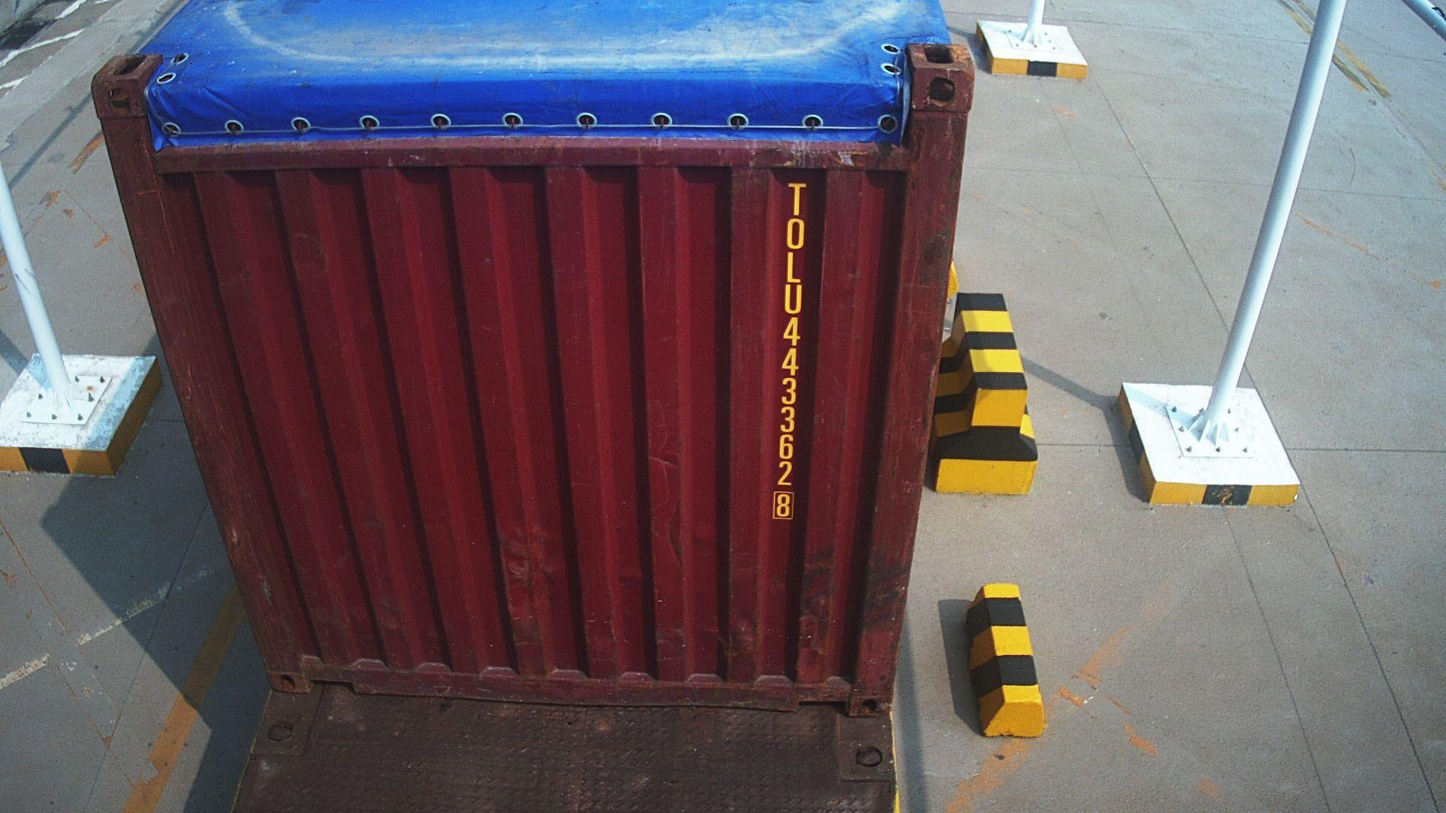container-numbers: (770, 181, 815, 525)
